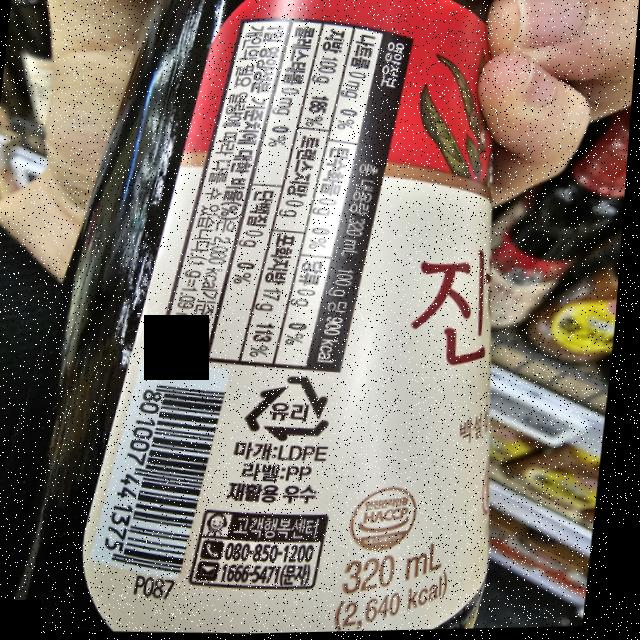Glass: (242, 368, 342, 448)
